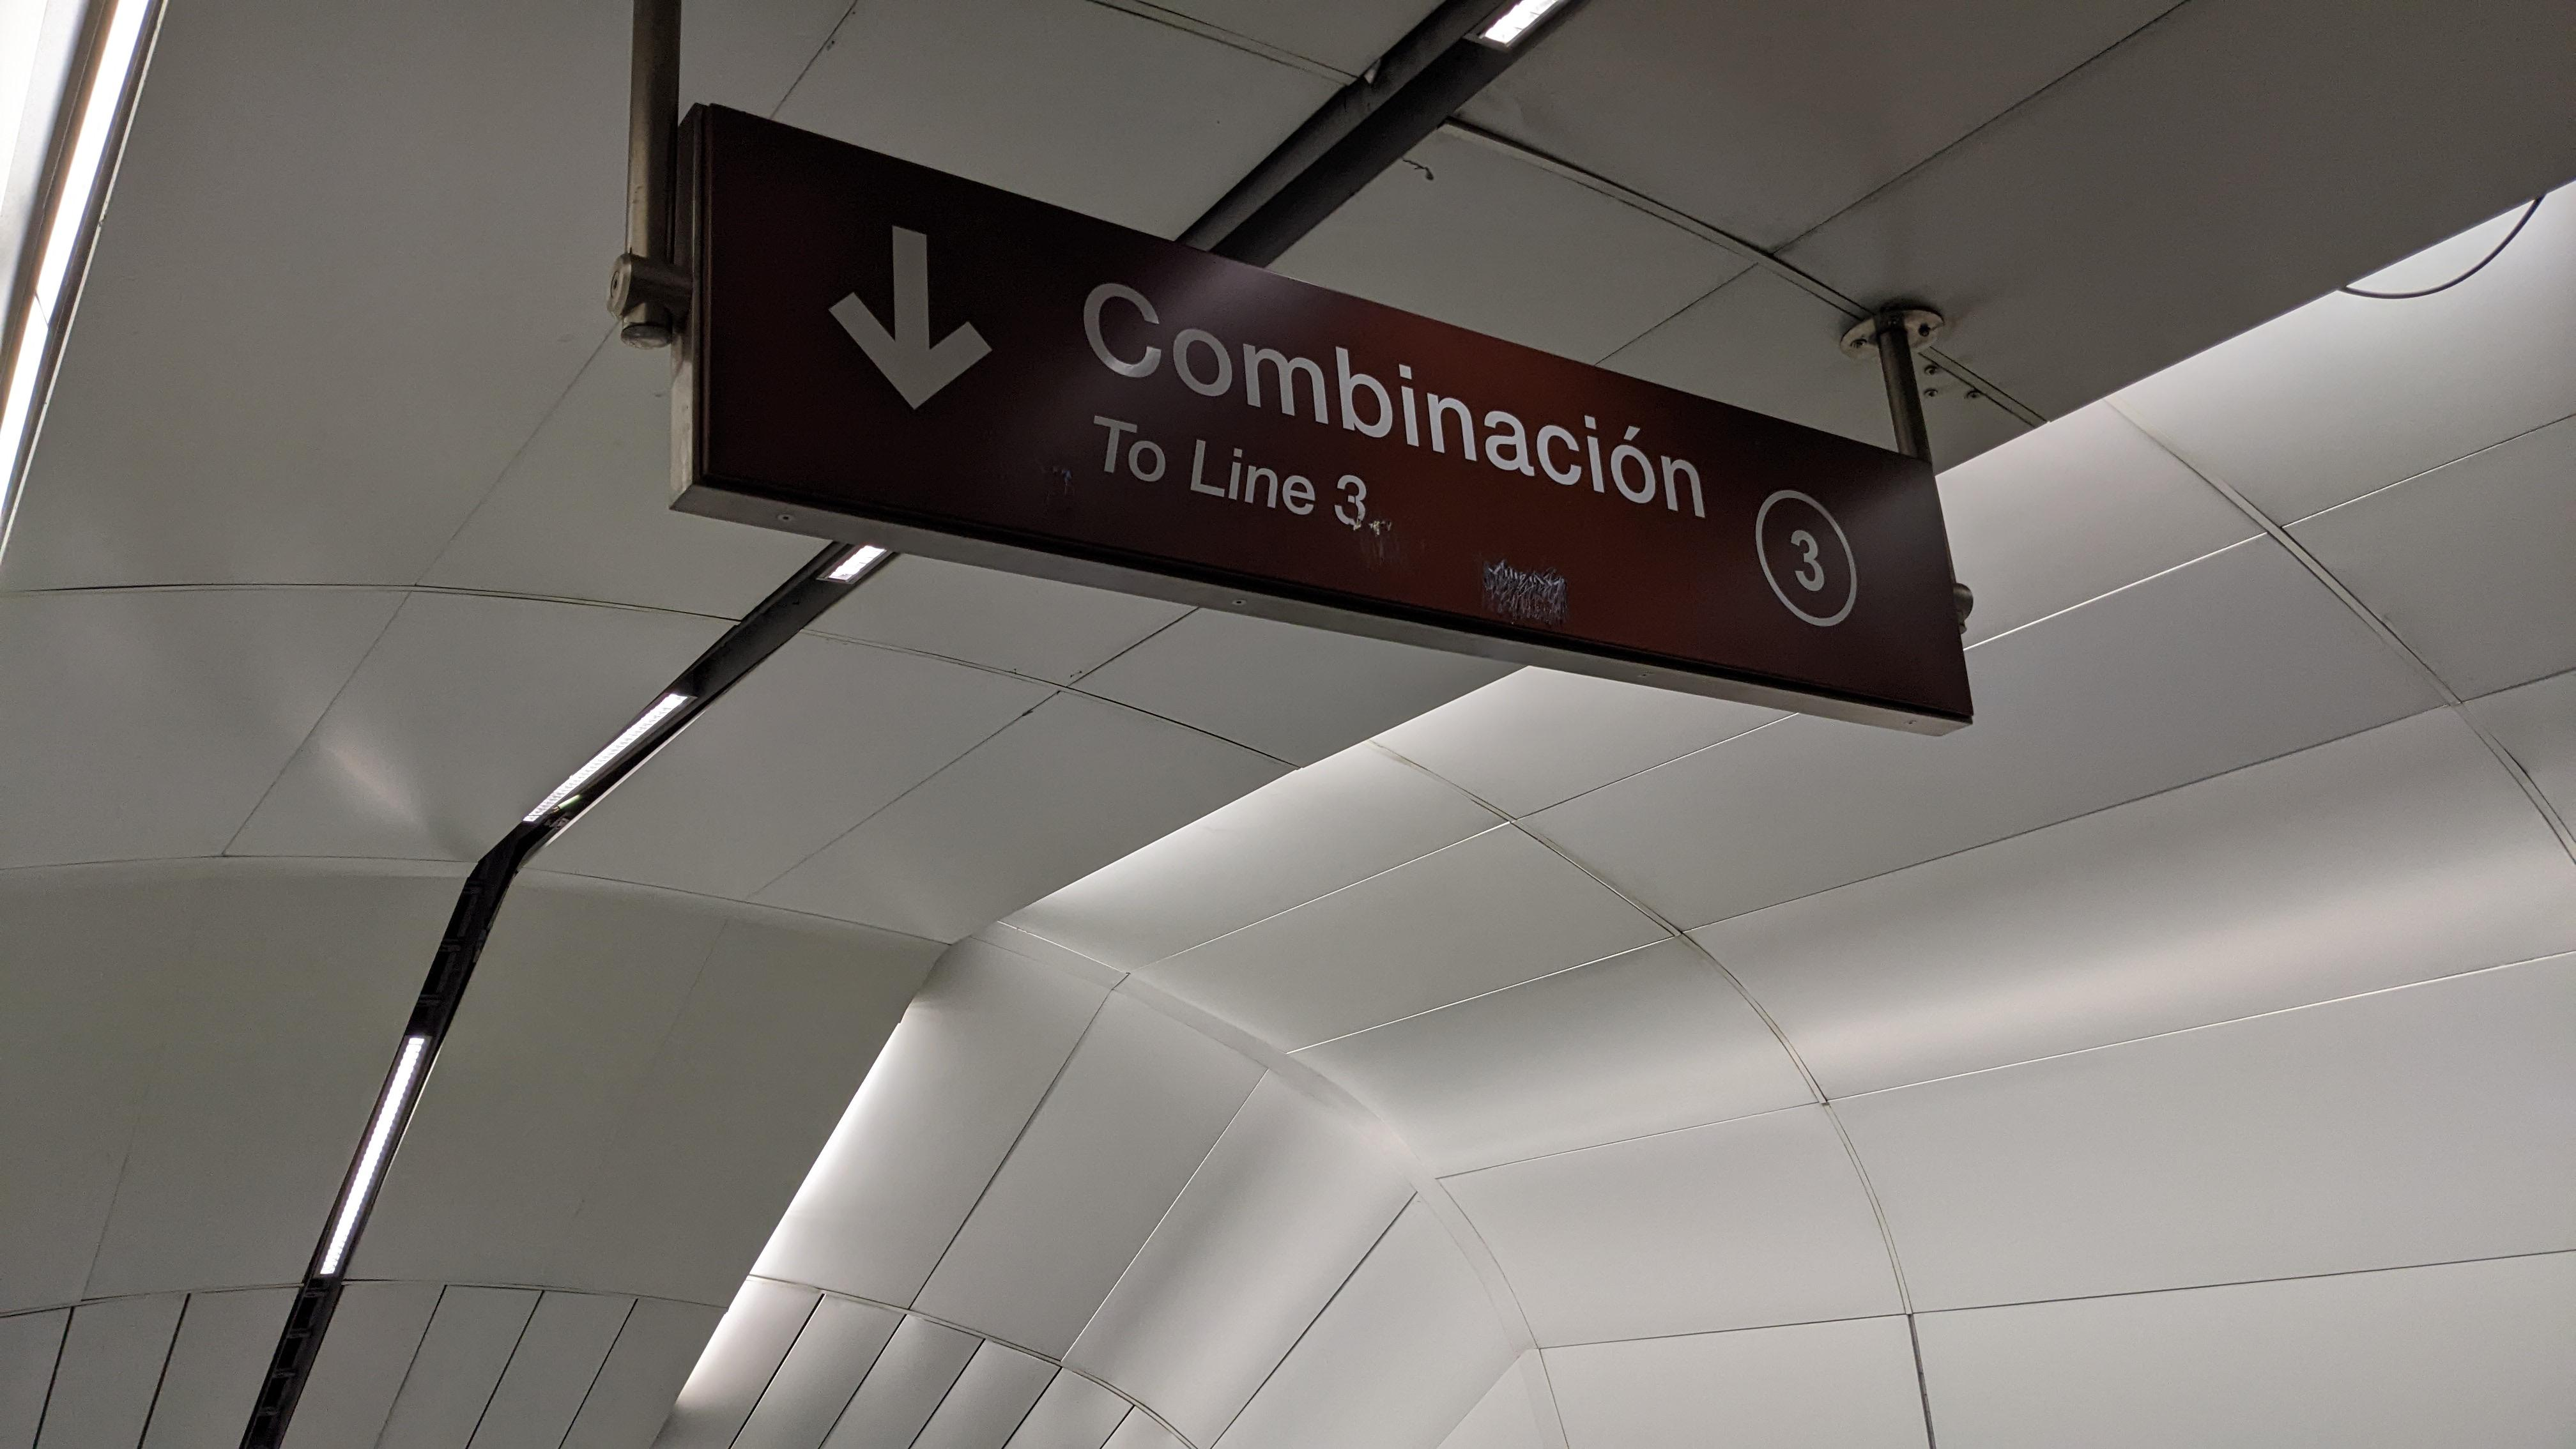down arrow: (816, 211, 1003, 425)
